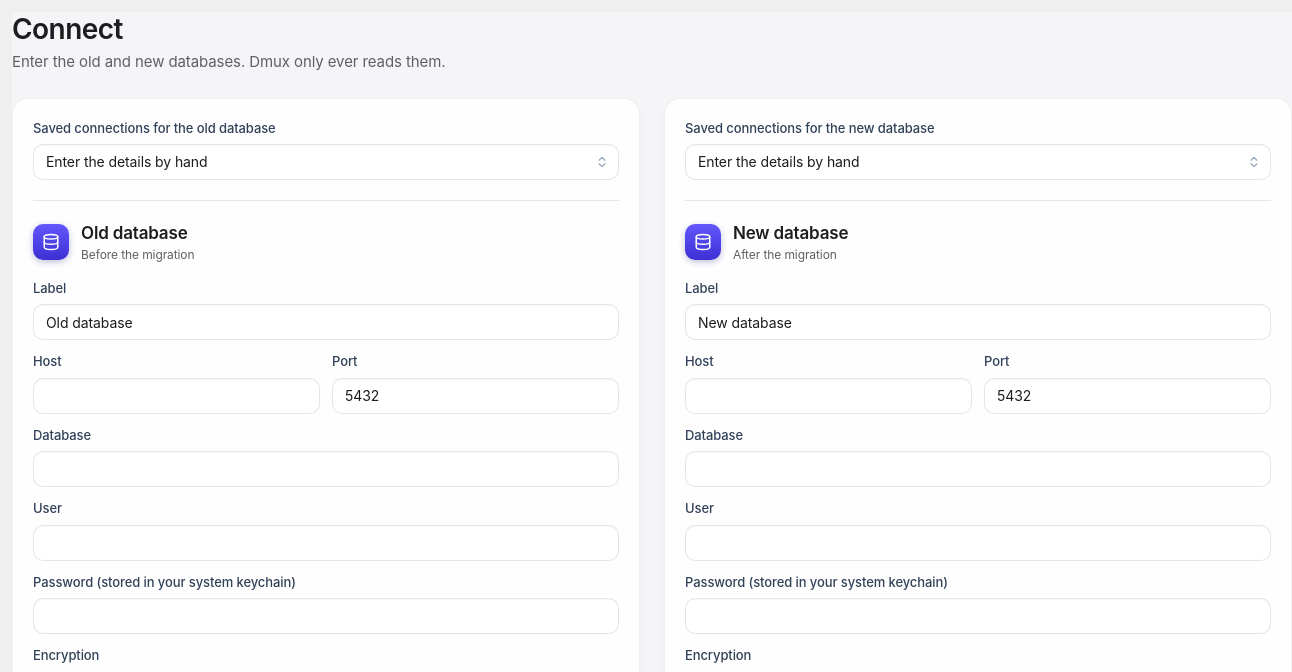
Connect screen: saved connections › says when no password is saved
Select "Production (reader@db.example.org:6543/bank)" in the dropdown with test id "New database-saved-select". click: (978, 162)
box: [685,144,1271,180]
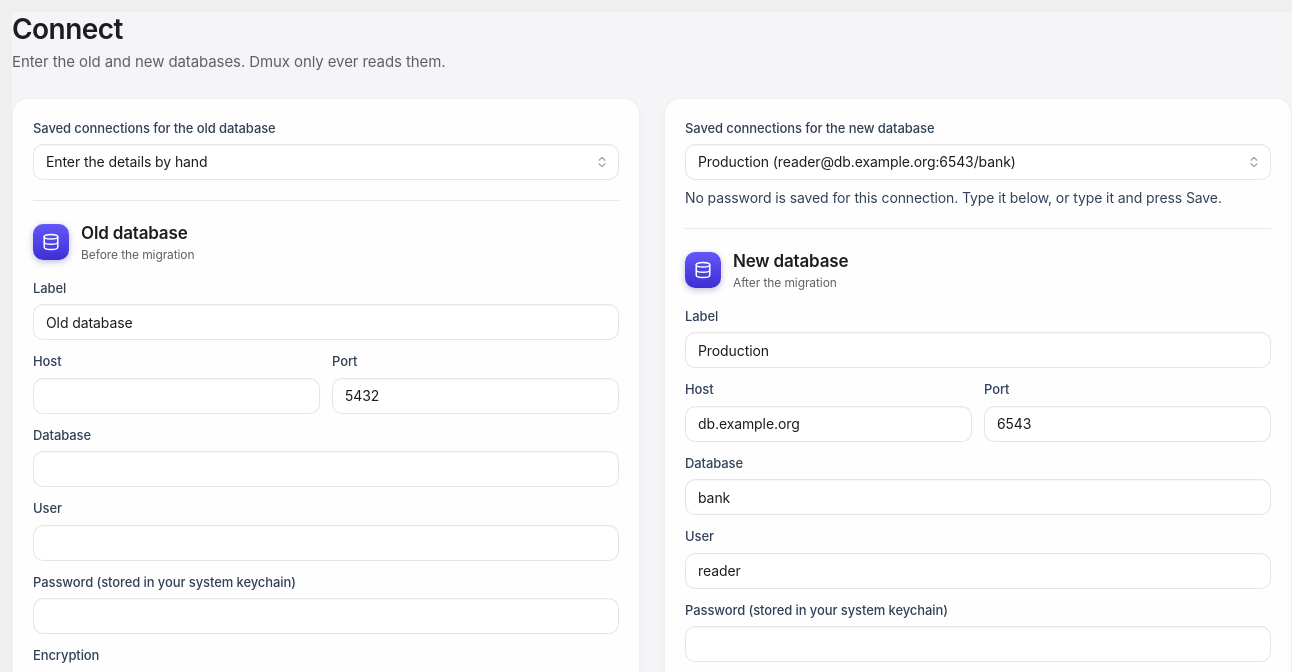
Expected: the text "No password is saved for this connection" is shown, [685,189,1222,206]
